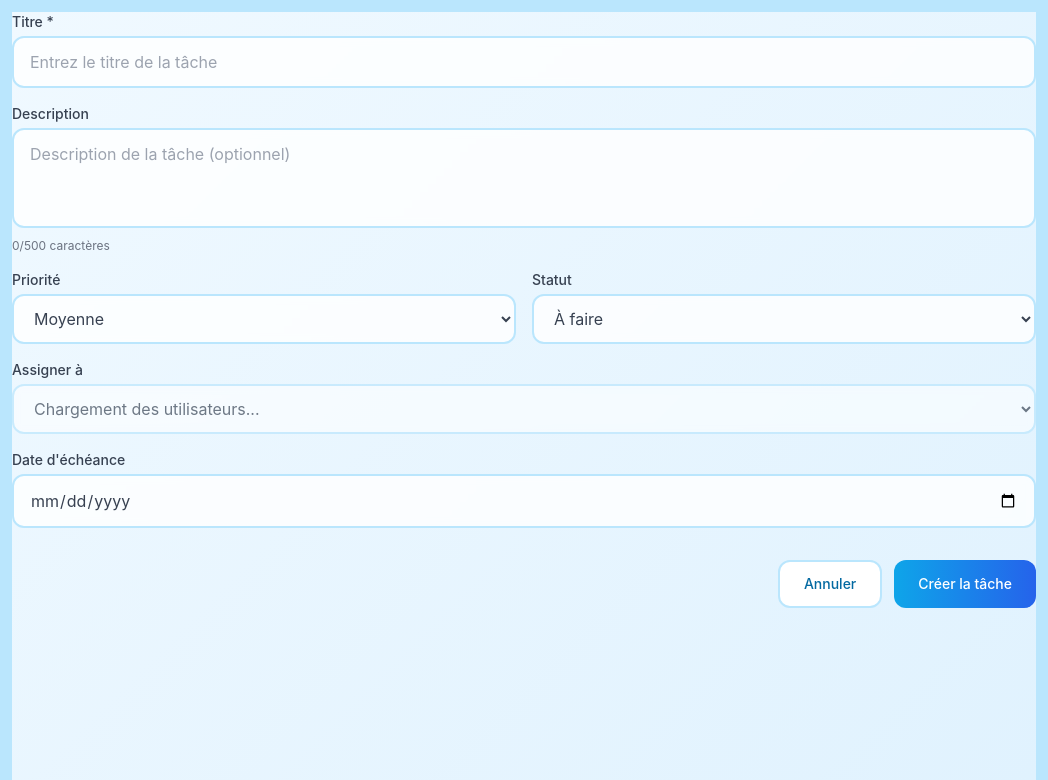
TaskForm › shows validation error for empty title
Step 1. Click the button "Créer la tâche" → point(965, 584), box left=894, top=560, right=1036, bottom=608
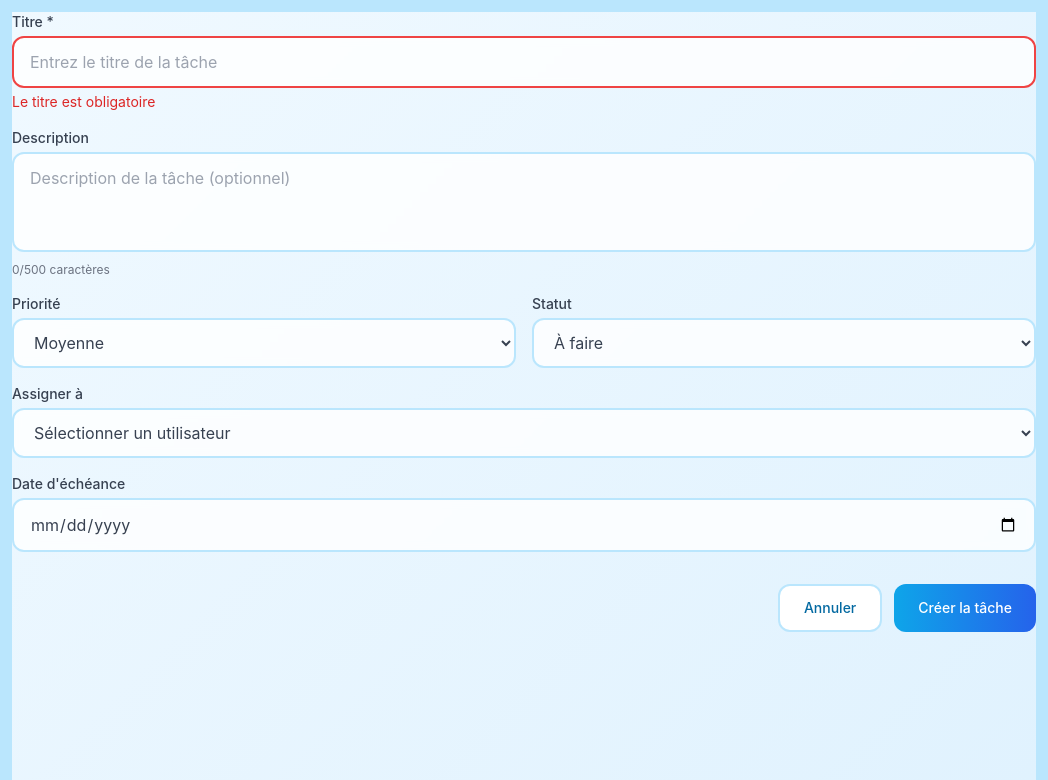
expect the text "Le titre est obligatoire" is shown: met, box left=12, top=93, right=155, bottom=110
